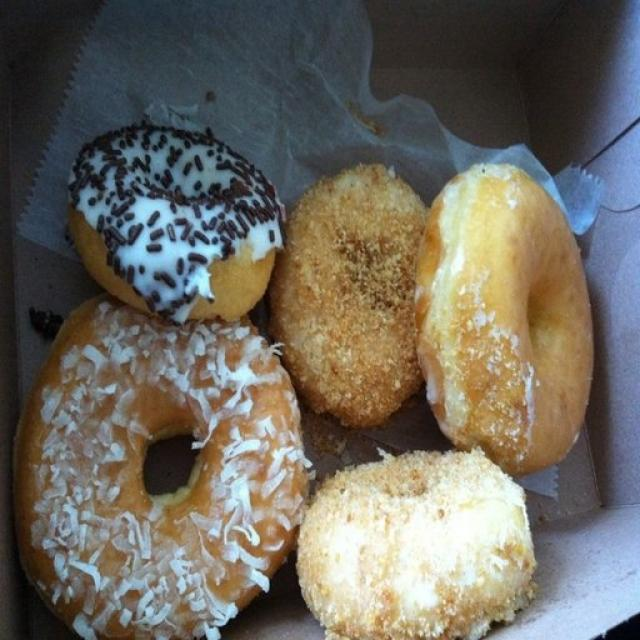Donuts: (26, 123, 595, 629)
